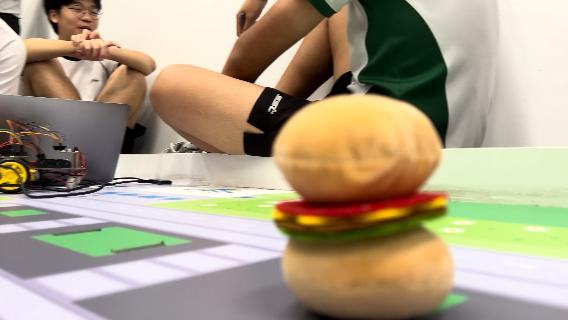burger: (272, 95, 454, 318)
